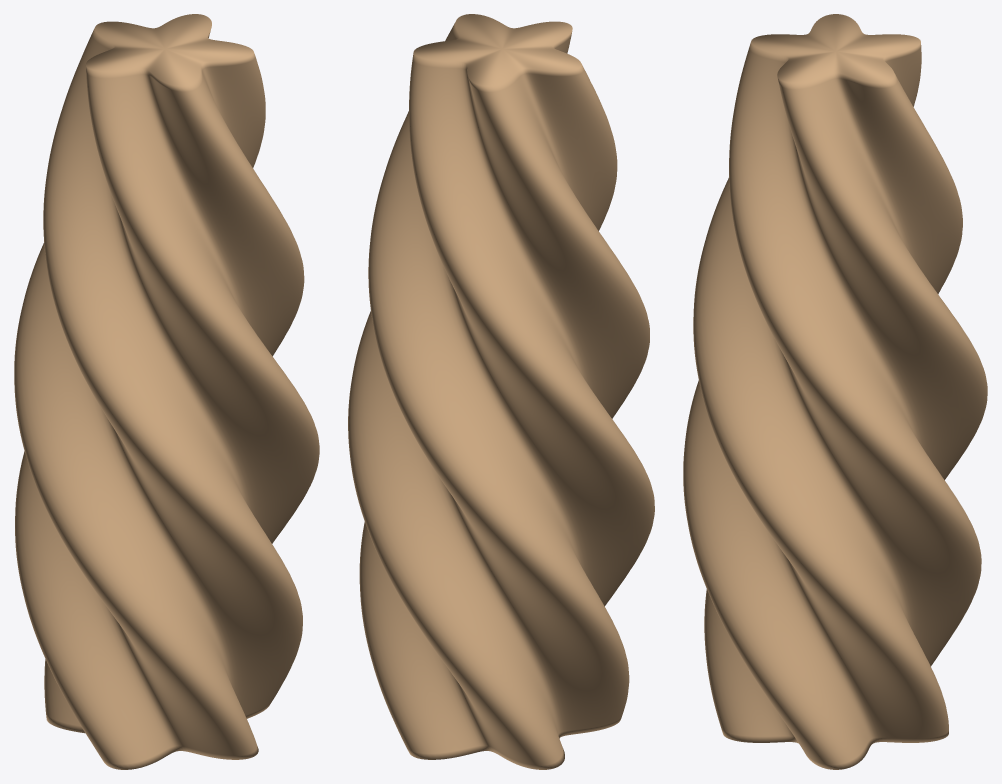
Rendered from twist.glb.
The picture shows the model from 3 angles, left to right: view 1: azimuth 30°, elevation 25°; view 2: azimuth 150°, elevation 25°; view 3: azimuth 270°, elevation 25°; orthographic projection.
Visible parts, largest first — view 1: geometry_0; view 2: geometry_0; view 3: geometry_0.
Part boxes in pixels (x1,y1,x2,y2): geometry_0: (14,14,319,769); geometry_0: (348,14,654,769); geometry_0: (683,14,987,769).
Size of the model in its own units: 0.1728 by 0.42 by 0.1734.
